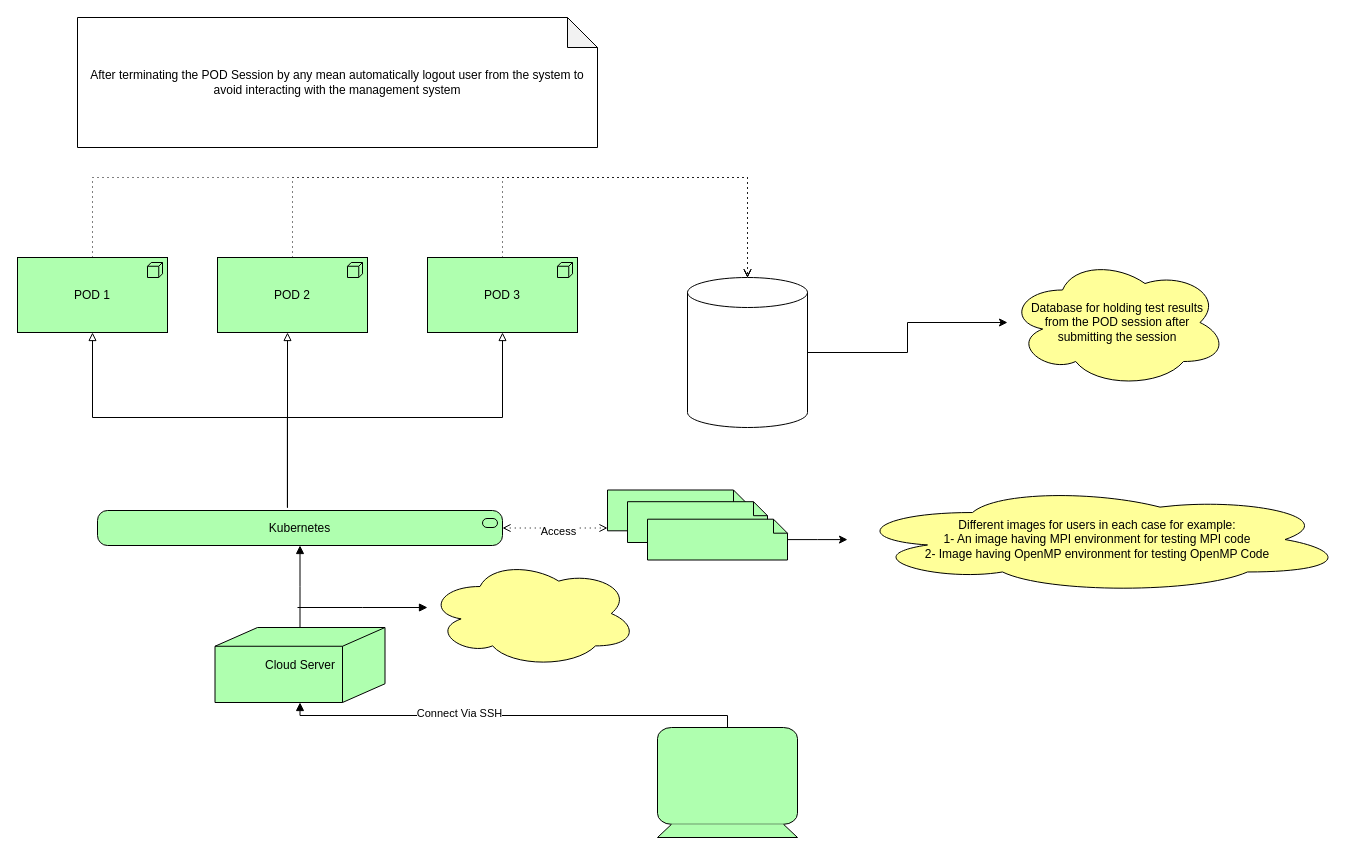
Image size: 1365x855. Some labels were removed from this diagram. Here are the shapes that lost their labels. From the top down, the centre of each, then its label:
At (x=747, y=352): "Database".
At (x=717, y=539): "OS Images".
At (x=532, y=613): "Automatically submitting POD for each user after connecting via ssh".
At (x=727, y=782): "Web Interface".
